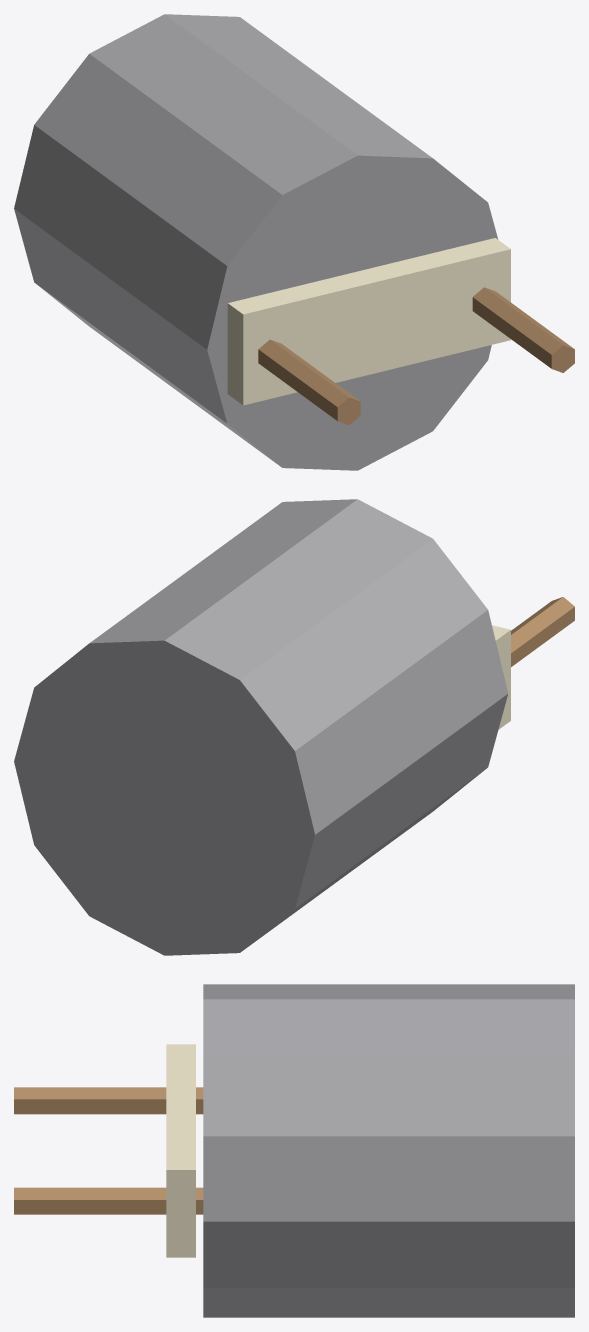
File: quest_scroll_pedestal.glb
3 views of the same model, one above another, from view 1: azimuth 30°, elevation 25°; view 2: azimuth 150°, elevation 25°; view 3: azimuth 270°, elevation 25° (orthographic). The views are drawn at different scales.
Visible parts, largest first — view 1: pedestal, scroll, rod_l, rod_r; view 2: pedestal, rod_l, scroll; view 3: pedestal, scroll, rod_l, rod_r.
Part boxes in pixels (<box>): pedestal: <box>14,14,498,470</box>; scroll: <box>227,238,510,405</box>; rod_l: <box>258,339,360,425</box>; rod_r: <box>472,287,574,372</box>; pedestal: <box>14,499,508,955</box>; rod_l: <box>511,597,574,666</box>; scroll: <box>492,625,510,729</box>; pedestal: <box>203,984,574,1317</box>; scroll: <box>166,1044,195,1257</box>; rod_l: <box>14,1087,203,1114</box>; rod_r: <box>14,1187,203,1214</box>.
Size of the model in its own units: 0.9 by 0.9 by 1.51.
